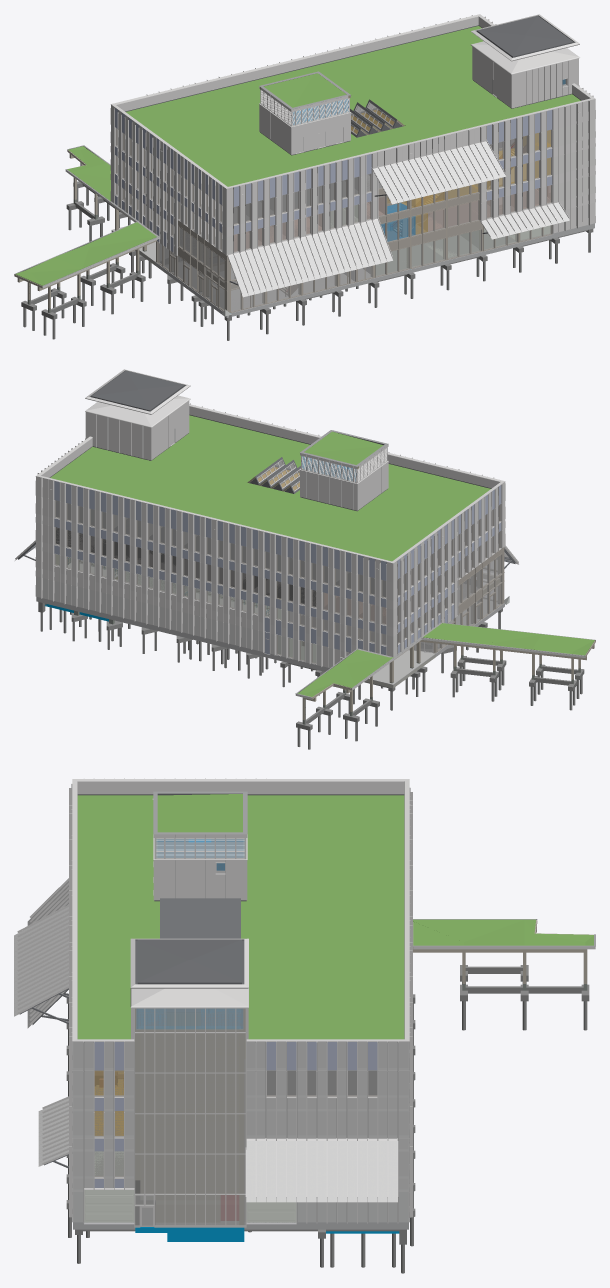
Rendered from bouwcampus2.glb.
3 renders of one model, top to bottom at view 1: azimuth 30°, elevation 25°; view 2: azimuth 150°, elevation 25°; view 3: azimuth 270°, elevation 25°, orthographic. The views are drawn at different scales.
Parts seen in each view (by area): view 1: IfcCovering/Dakafwering hoofddak.009, IfcCovering/Dakrand-x.212, IfcSpace/SP-18, IfcSlab/BVO.012, IfcSlab/BVO.011, IfcCovering/Dakrand-x.221, IfcSpace/SP-42.1, IfcCovering/Dakrand-x.027, IfcSlab/BVO.042, IfcWall/Wand-x.091, IfcCovering/Dakrand-x.223, IfcWall/Wand-x.347 (+37 smaller); view 2: IfcCovering/Dakafwering hoofddak.009, IfcCovering/Dakrand-x.215, IfcWall/Wand-x.143, IfcCovering/Dakrand-x.222, IfcSpace/GS-8, IfcSlab/BVO.011, IfcCovering/Dakrand-x.223, IfcSlab/BVO.075, IfcSlab/BVO.076, IfcWall/Wand-x.339, IfcSpace/005, IfcWall/Wand-x.350 (+45 smaller); view 3: IfcCovering/Dakafwering hoofddak.009, IfcPlate/Glazen invulling zonneschouw, IfcCovering/Dakrand-x.211, IfcCovering/Dakrand-x.220, IfcWall/Wand-x.396, IfcWall/Wand-x.287, IfcWall/Wand-x.298, IfcWall/Wand-x.192, IfcWall/Wand-x.131, IfcCovering/Dakrand-x.068, IfcCovering/Dakrand-x.168, IfcWall/Wand-x.325 (+58 smaller).
Part boxes in pixels (x1,y1,x2,y2): IfcCovering/Dakafwering hoofddak.009: (126,26,580,186); IfcCovering/Dakrand-x.212: (111,14,479,111); IfcSpace/SP-18: (165,247,354,310); IfcSlab/BVO.012: (376,226,549,275); IfcSlab/BVO.011: (111,226,370,310); IfcCovering/Dakrand-x.221: (511,35,579,74); IfcSpace/SP-42.1: (376,230,480,275); IfcCovering/Dakrand-x.027: (378,127,479,166); IfcSlab/BVO.042: (180,189,550,261); IfcWall/Wand-x.091: (254,235,552,311); IfcCovering/Dakrand-x.223: (471,30,525,74); IfcWall/Wand-x.347: (511,60,571,90); IfcCovering/Dakafwering hoofddak.009: (50,415,490,561); IfcCovering/Dakrand-x.215: (189,404,504,488); IfcWall/Wand-x.143: (36,596,329,671); IfcCovering/Dakrand-x.222: (85,390,151,427); IfcSpace/GS-8: (56,527,315,606); IfcSlab/BVO.011: (365,599,498,688); IfcCovering/Dakrand-x.223: (137,385,190,427); IfcSlab/BVO.075: (56,528,301,597); IfcSlab/BVO.076: (56,501,385,596); IfcWall/Wand-x.339: (300,471,339,506); IfcSpace/005: (91,509,269,568); IfcWall/Wand-x.350: (92,413,151,443); IfcCovering/Dakafwering hoofddak.009: (77,795,404,1039); IfcPlate/Glazen invulling zonneschouw: (135,1008,245,1226); IfcCovering/Dakrand-x.211: (73,779,408,794); IfcCovering/Dakrand-x.220: (130,960,248,1007); IfcWall/Wand-x.396: (153,861,247,900); IfcWall/Wand-x.287: (141,1096,238,1135); IfcWall/Wand-x.298: (141,1056,238,1095); IfcWall/Wand-x.192: (141,1137,238,1175); IfcWall/Wand-x.131: (156,1177,238,1221); IfcCovering/Dakrand-x.068: (72,1042,83,1222); IfcCovering/Dakrand-x.168: (398,1042,409,1222); IfcWall/Wand-x.325: (141,1029,238,1054).
Size of the model in its own units: 81.18 by 29.49 by 51.7.
